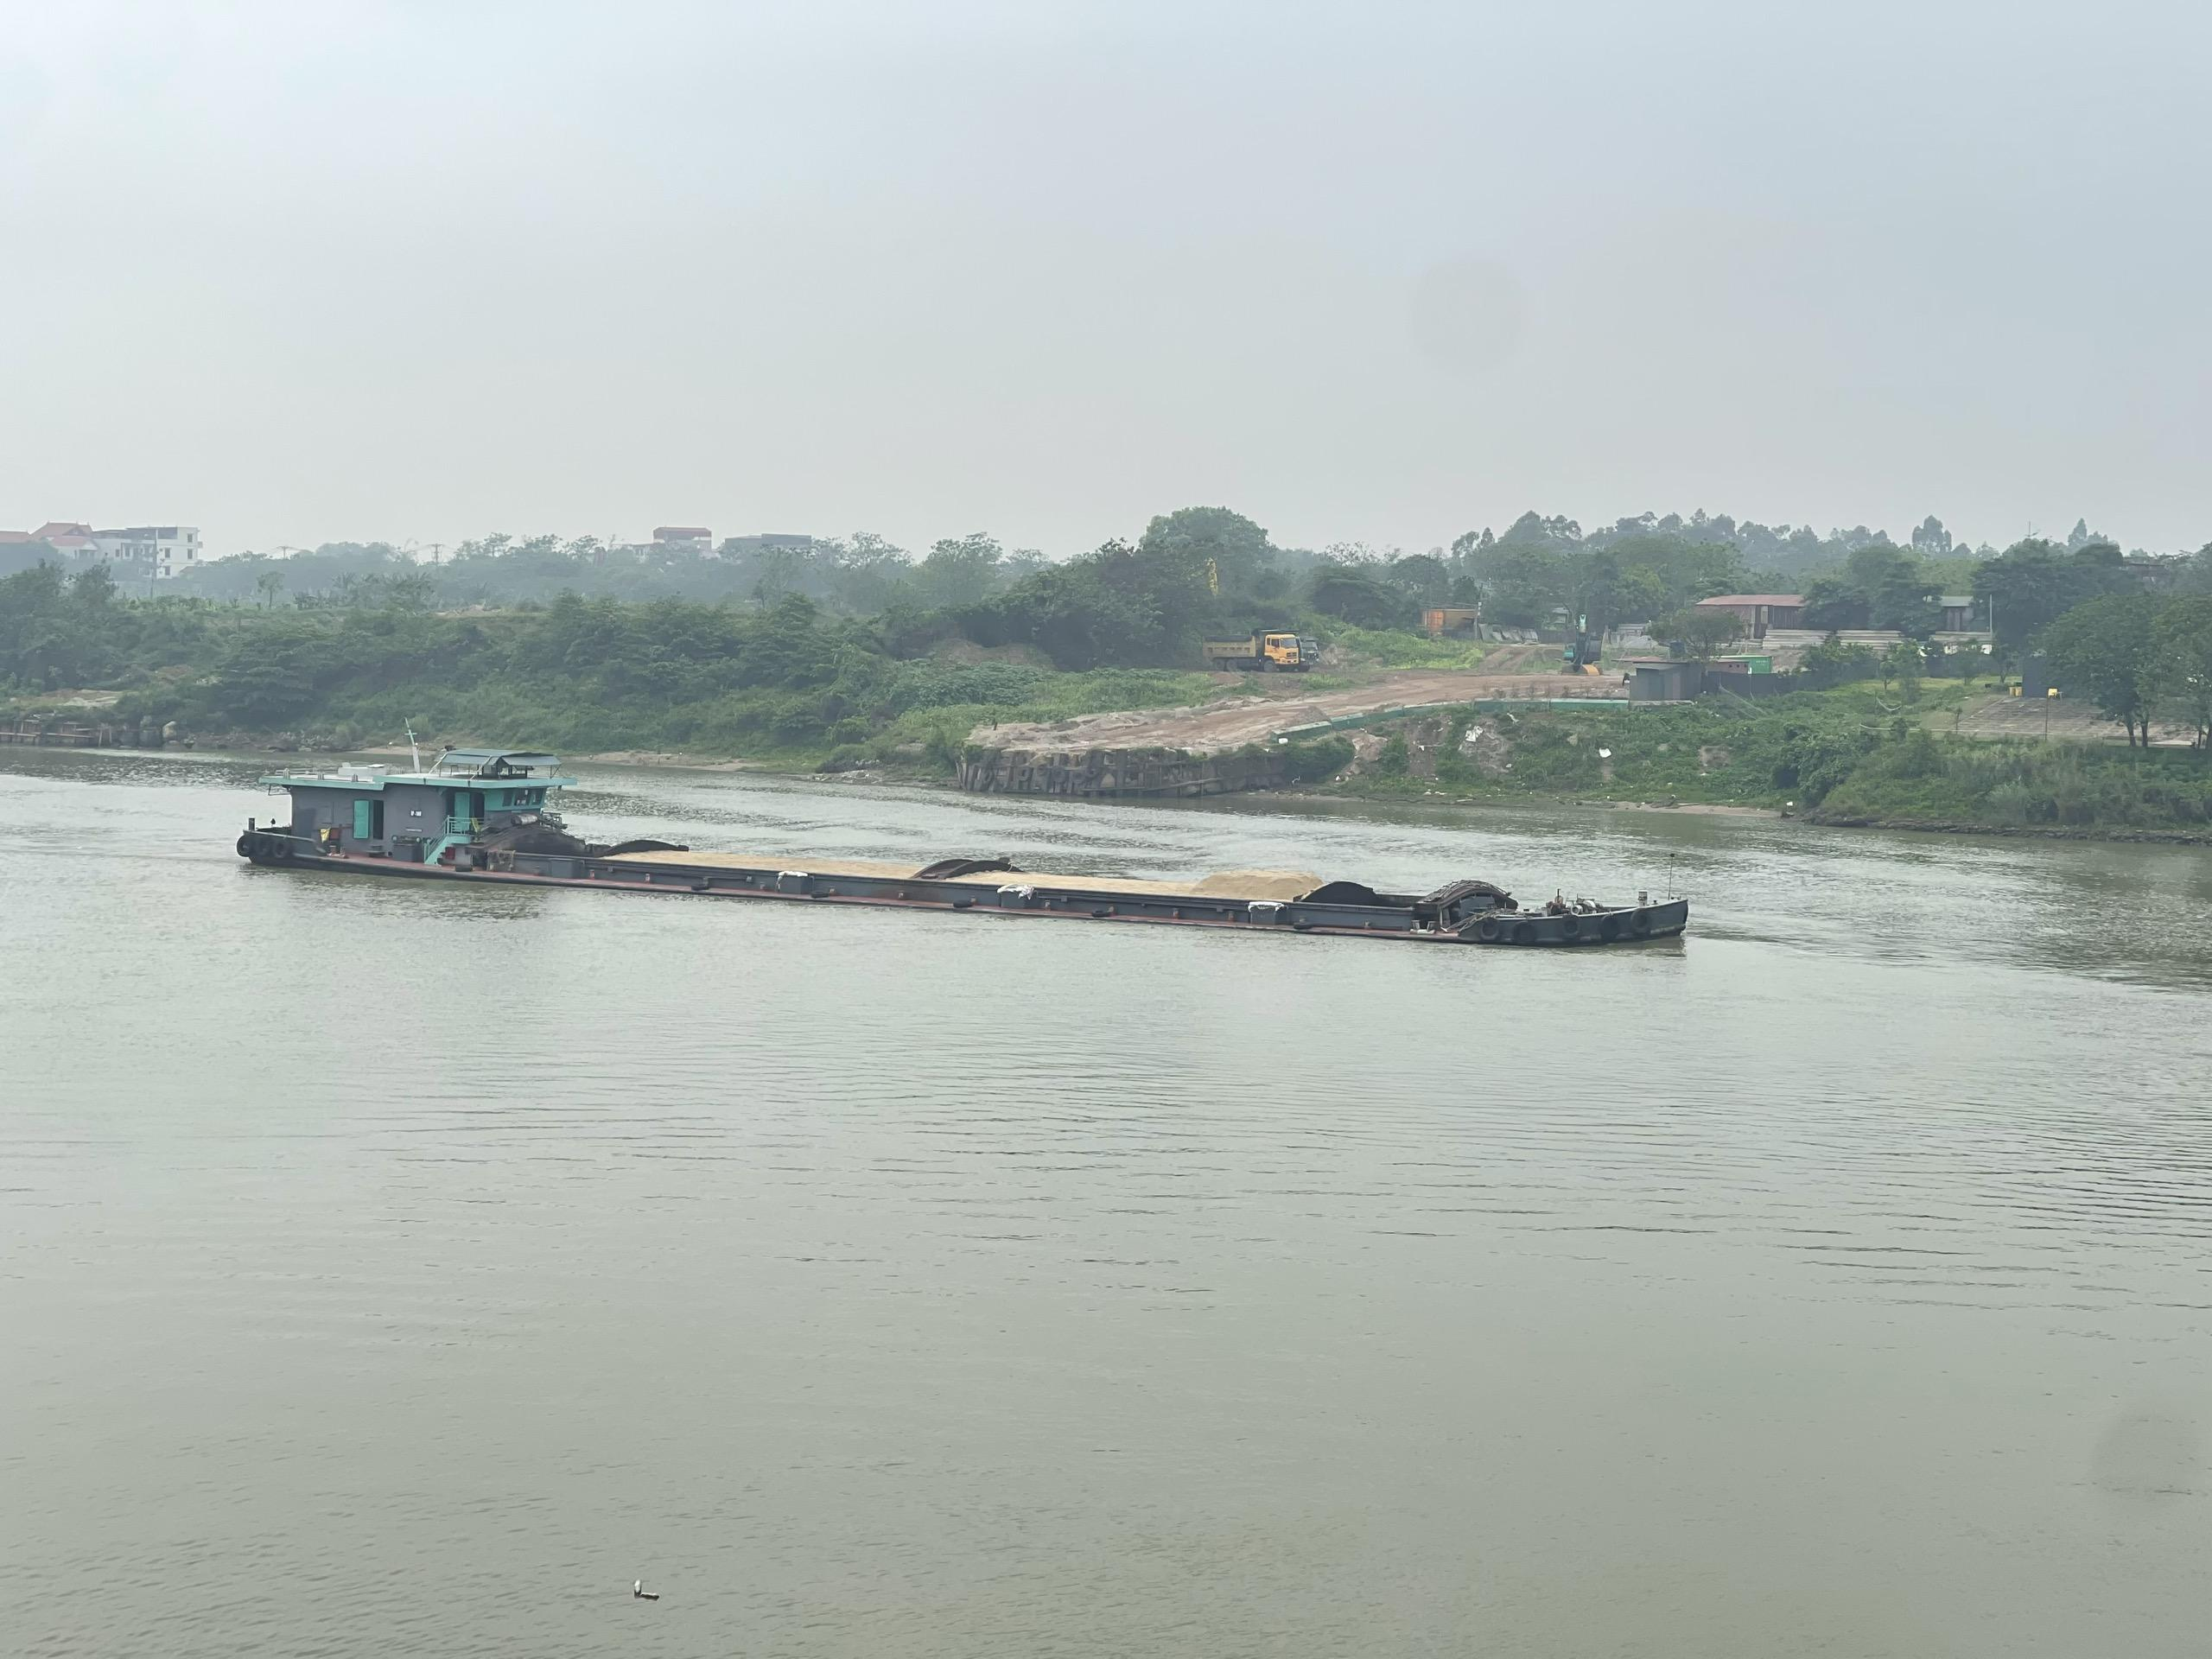Ship: (216, 756, 1700, 965)
